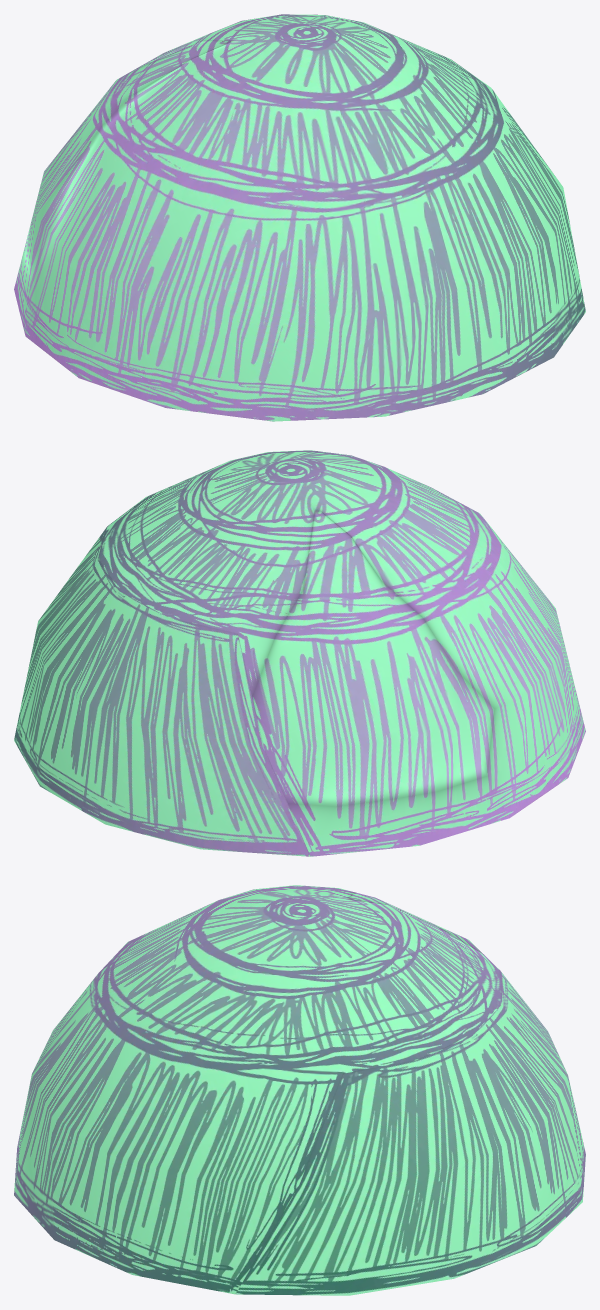
The model's file is tent3_2024.glb.
The picture shows the model from 3 angles, top to bottom: view 1: azimuth 30°, elevation 25°; view 2: azimuth 150°, elevation 25°; view 3: azimuth 270°, elevation 25°; orthographic projection.
Visible parts, largest first — view 1: tente3; view 2: tente3; view 3: tente3.
Boxes of the visible parts, bbox=[...] form: tente3: bbox=[14, 14, 585, 421]; tente3: bbox=[14, 450, 585, 856]; tente3: bbox=[14, 885, 585, 1295].
Size of the model in its own units: 9.8 by 5.08 by 9.8.
Materials: 1 (1 with a texture image).
